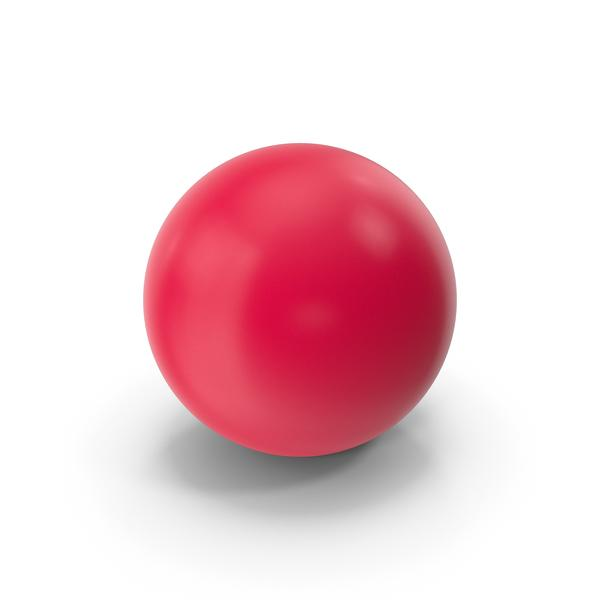Red_Ball: (96, 104, 497, 487)
